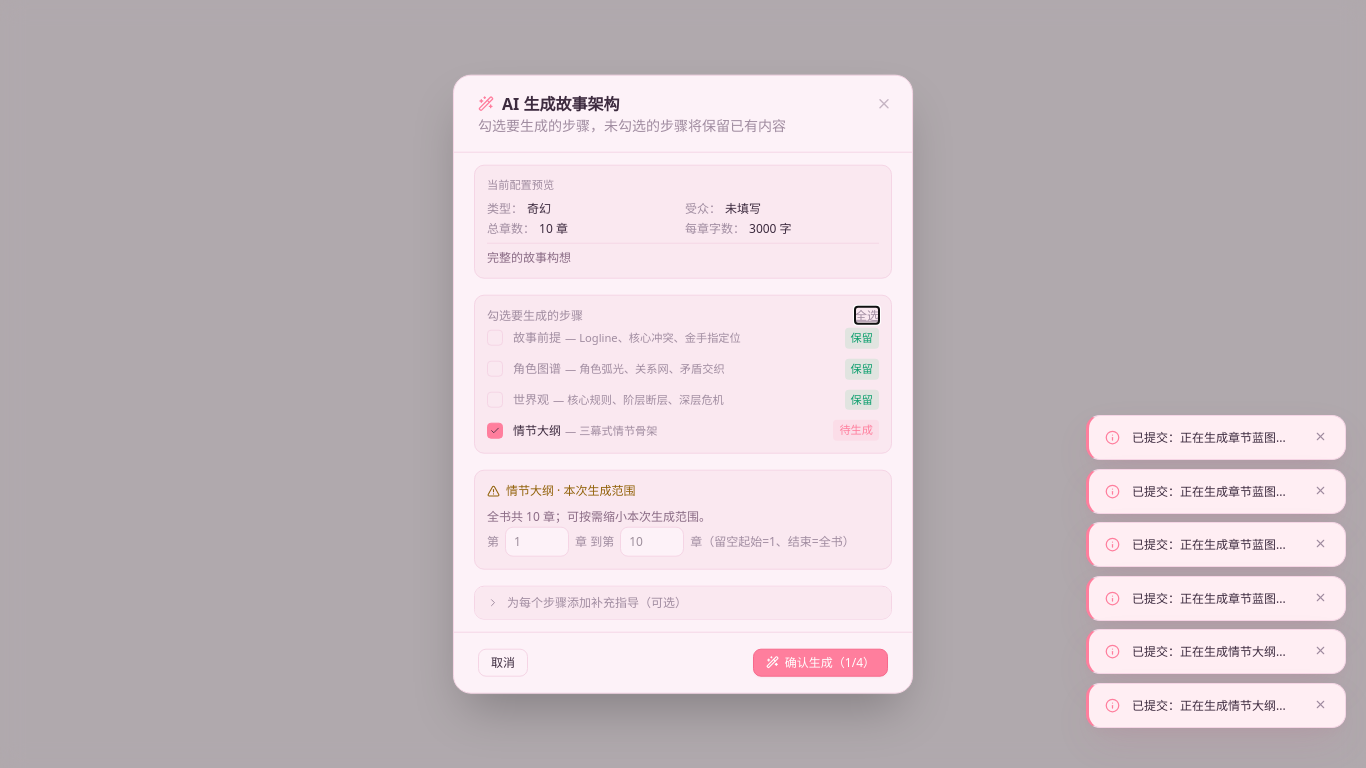
Scenario: workflow launch dialogs › rejects non-empty invalid synopsis range value 0
Type "0" into the number field named "本次生成范围的起始章" at (537, 541), box x1=505 y1=526 x2=569 y2=556
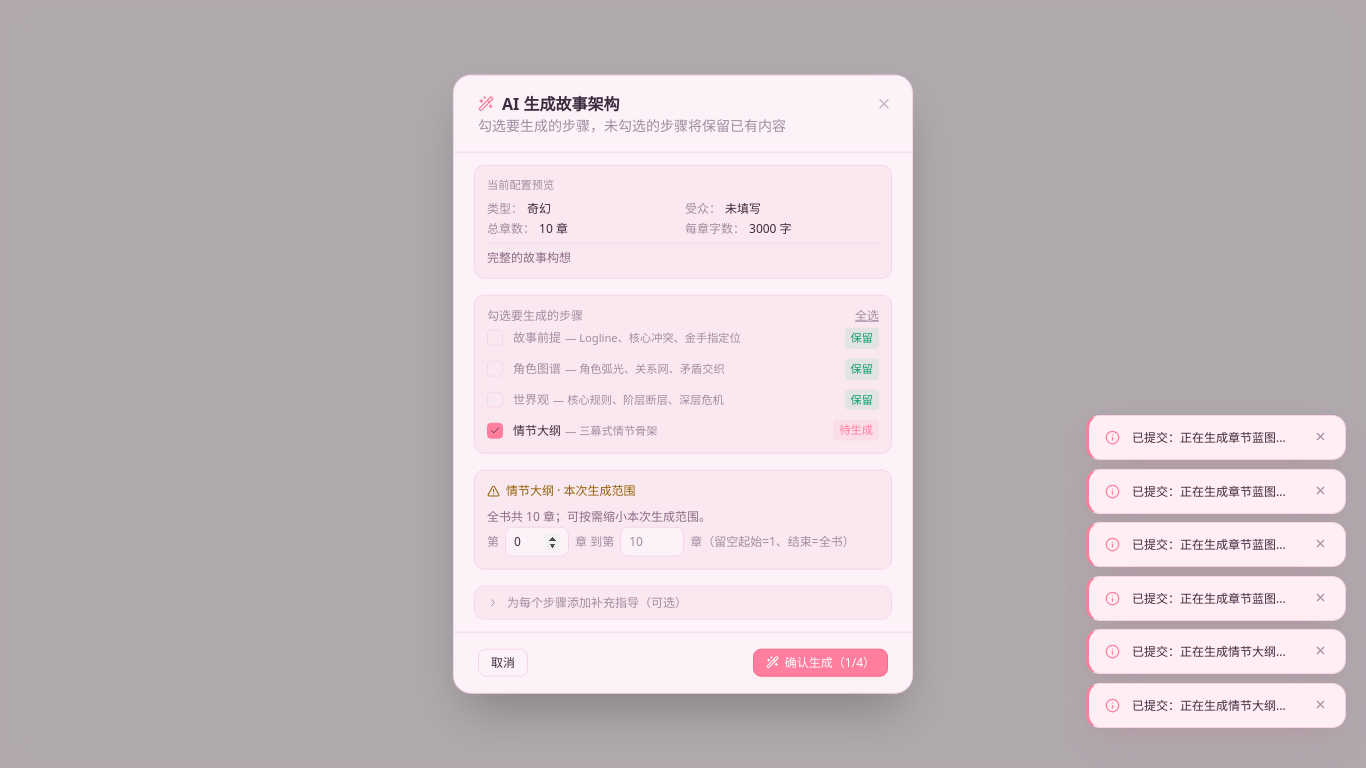
Click the button "确认生成（1/4）" at (820, 662), box x1=753 y1=648 x2=888 y2=676
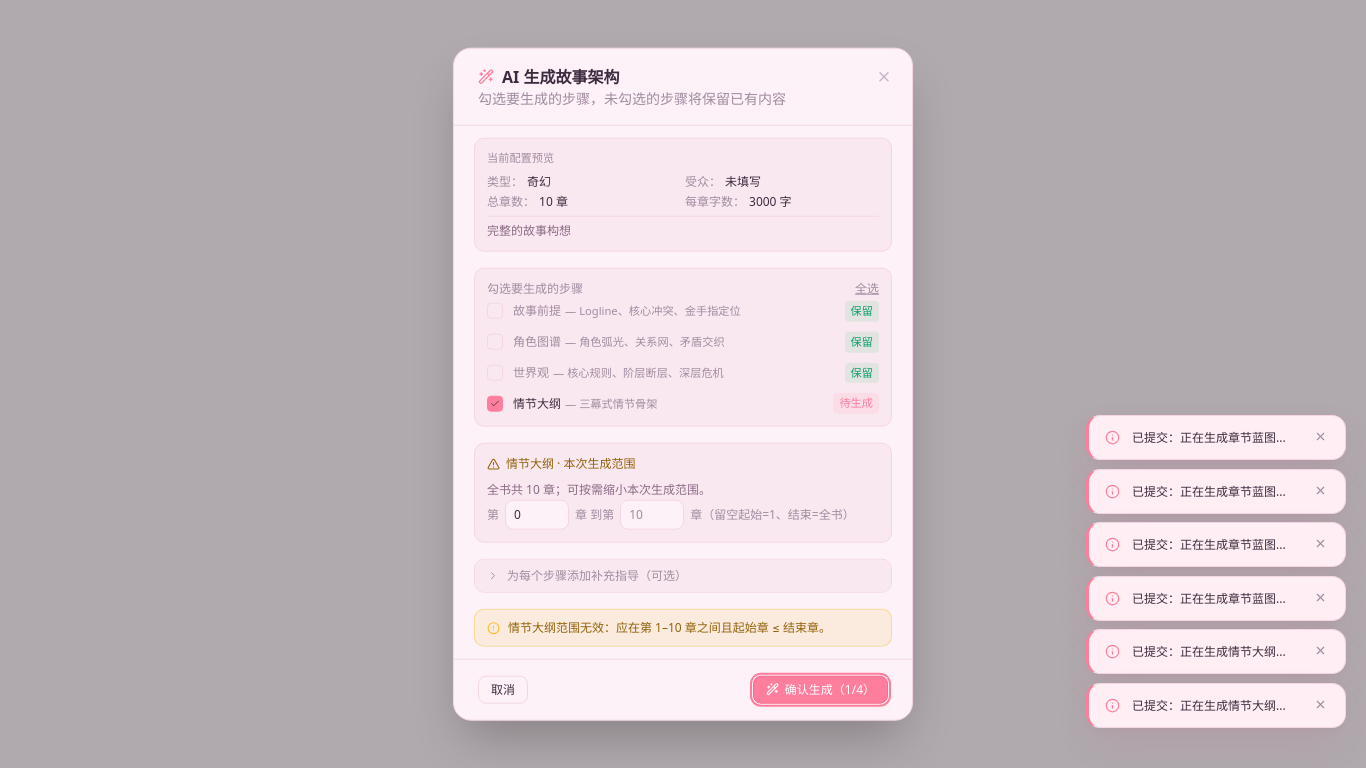
Now the text "情节大纲范围无效：应在第 1–10 章之间且起始章 ≤ 结束章。" is shown, box x1=508 y1=619 x2=831 y2=635
